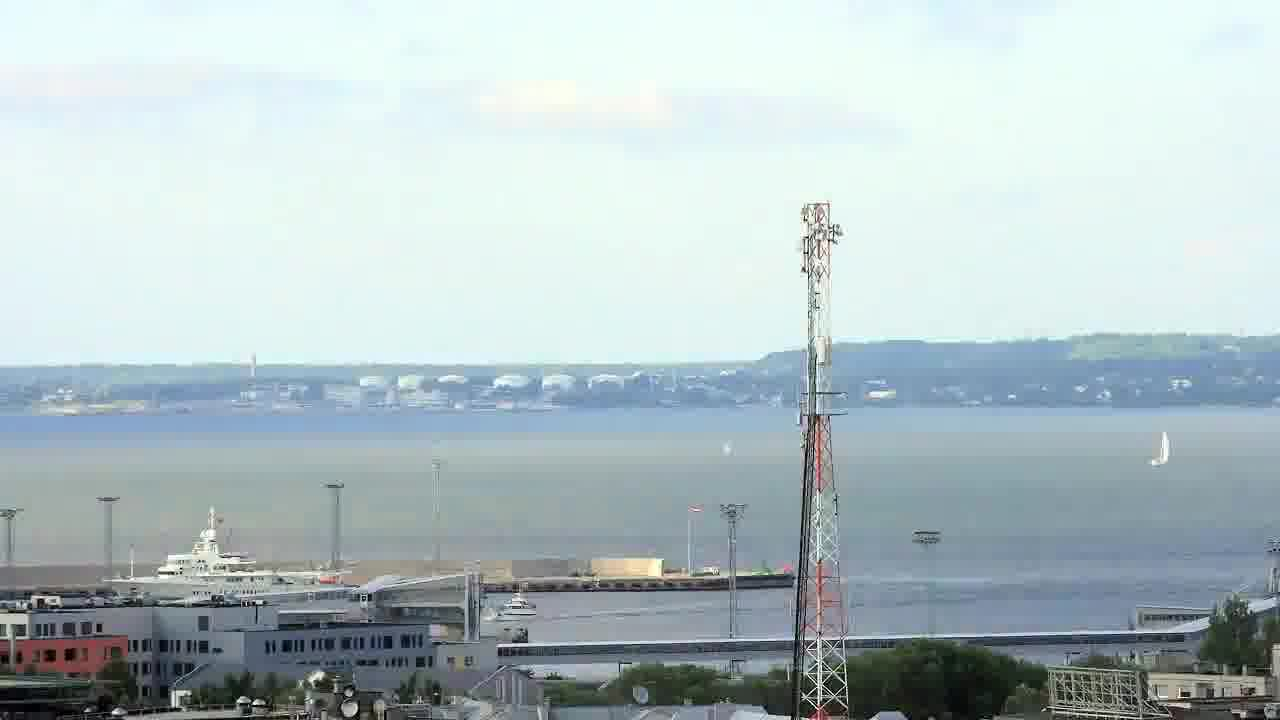type-1: (470, 577, 556, 628)
type-2: (1135, 414, 1194, 486)
type-3: (84, 515, 355, 603)
